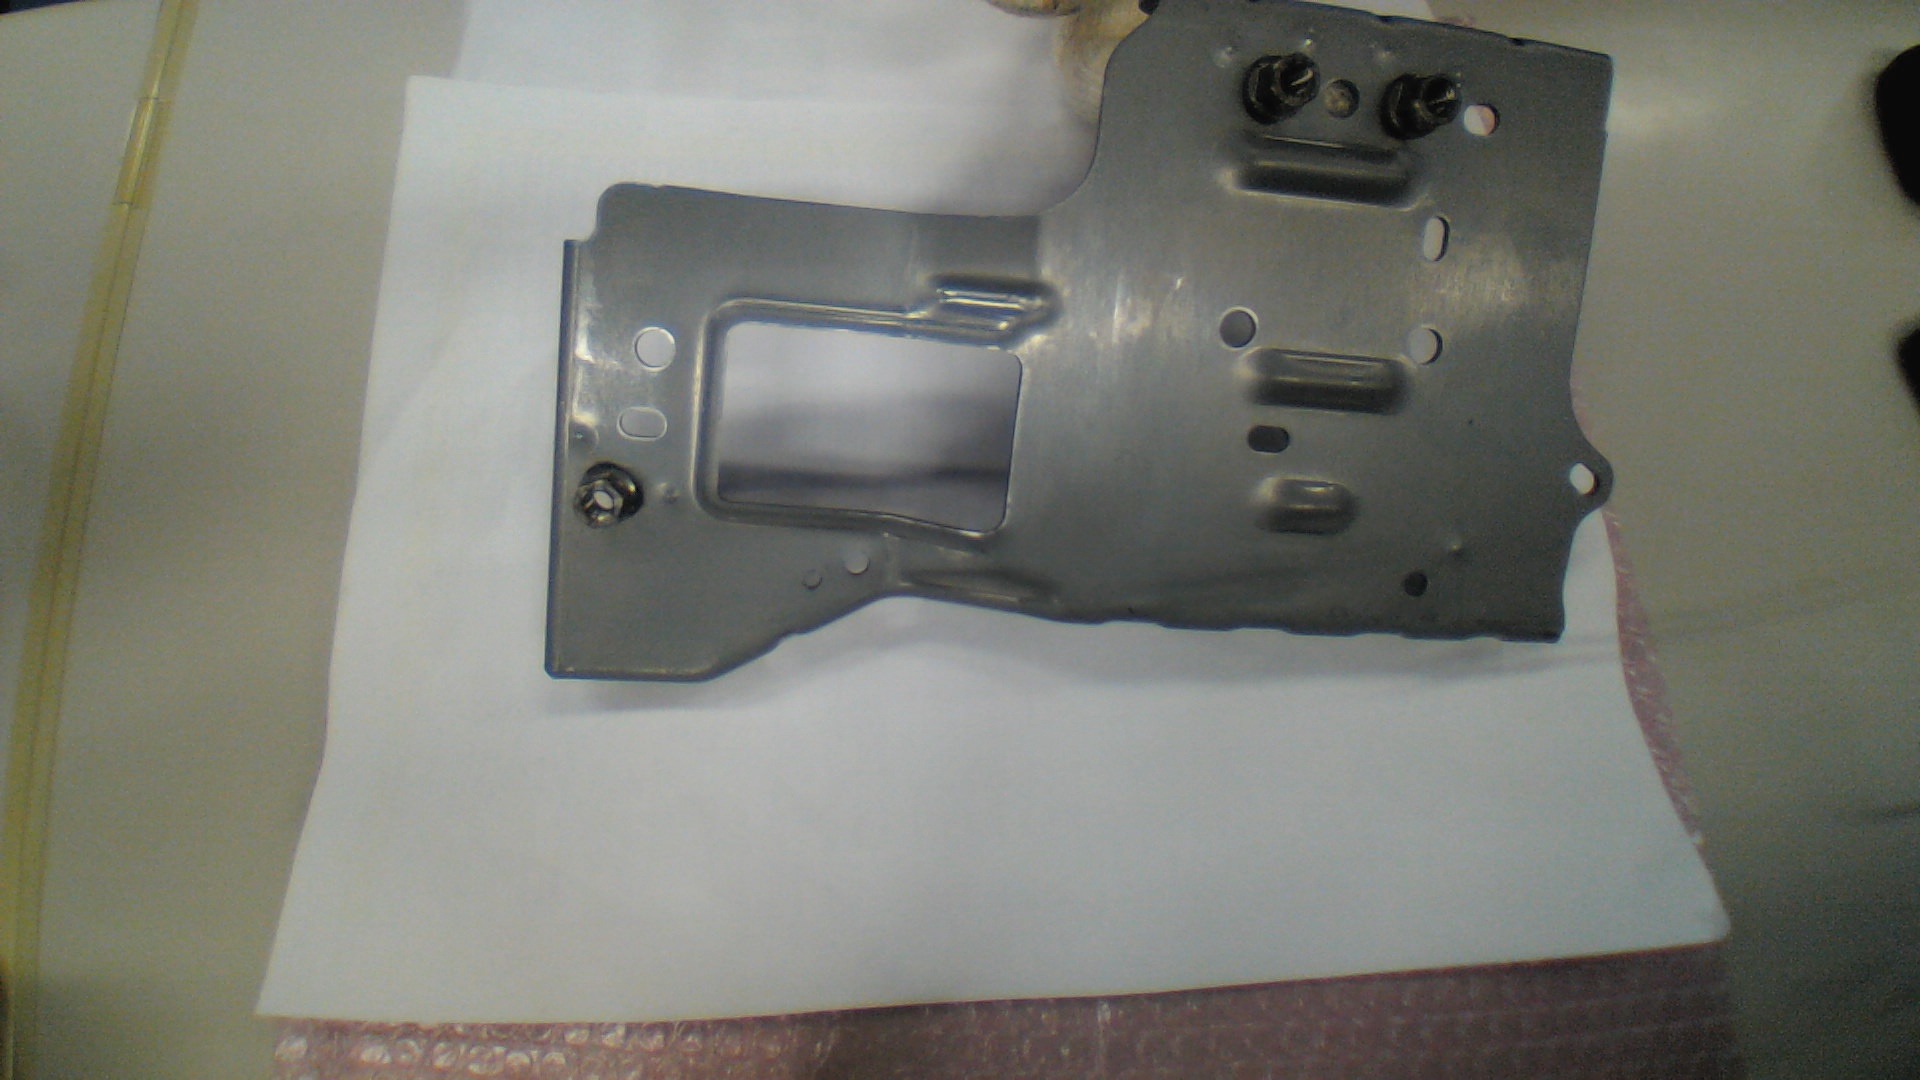dog: (1381, 69, 1461, 140), (1241, 51, 1320, 123), (575, 462, 645, 526)
